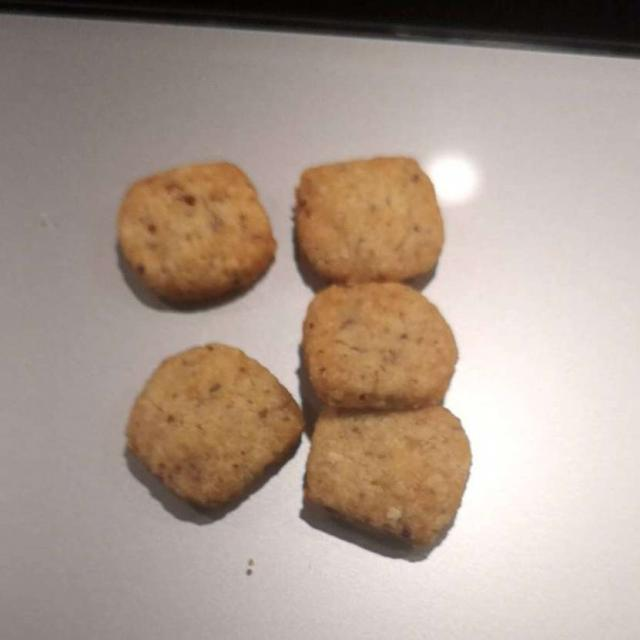crackers: (118, 161, 470, 546)
